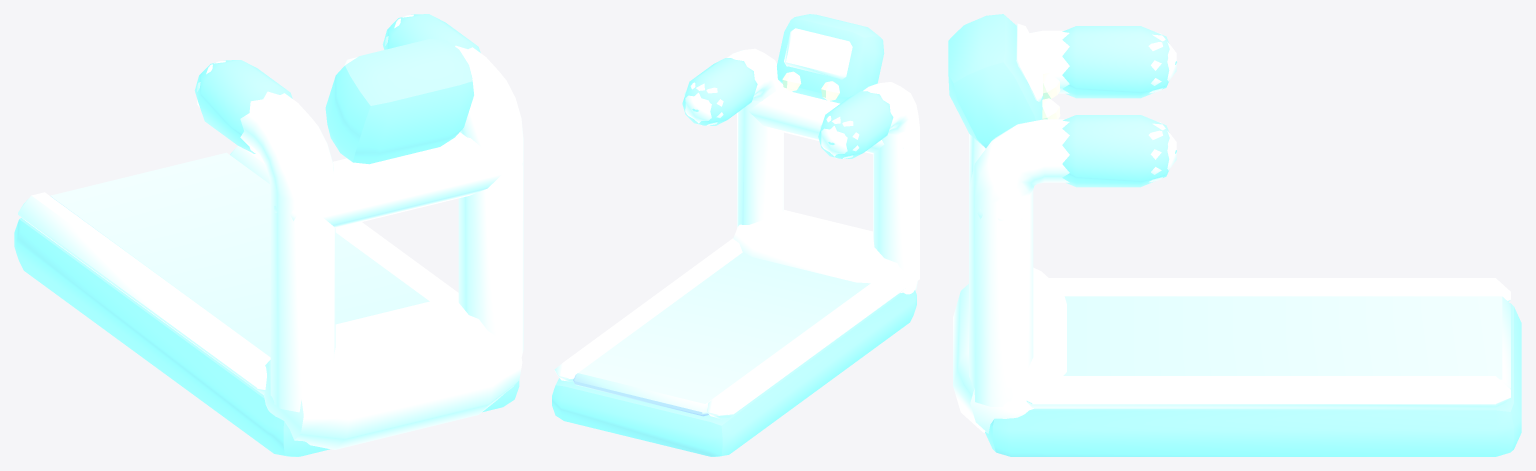
File: props__Treadmill.glb
3 renders of one model, left to right at view 1: azimuth 30°, elevation 25°; view 2: azimuth 150°, elevation 25°; view 3: azimuth 270°, elevation 25°, orthographic. The views are drawn at different scales.
Visible parts, largest first — view 1: Treadmill; view 2: Treadmill; view 3: Treadmill.
Boxes of the visible parts, <box> form: Treadmill: <box>14,14,523,456</box>; Treadmill: <box>552,14,919,456</box>; Treadmill: <box>948,14,1521,456</box>.
Bounding box in the file's own units: 2.64 × 3.85 × 5.34.
